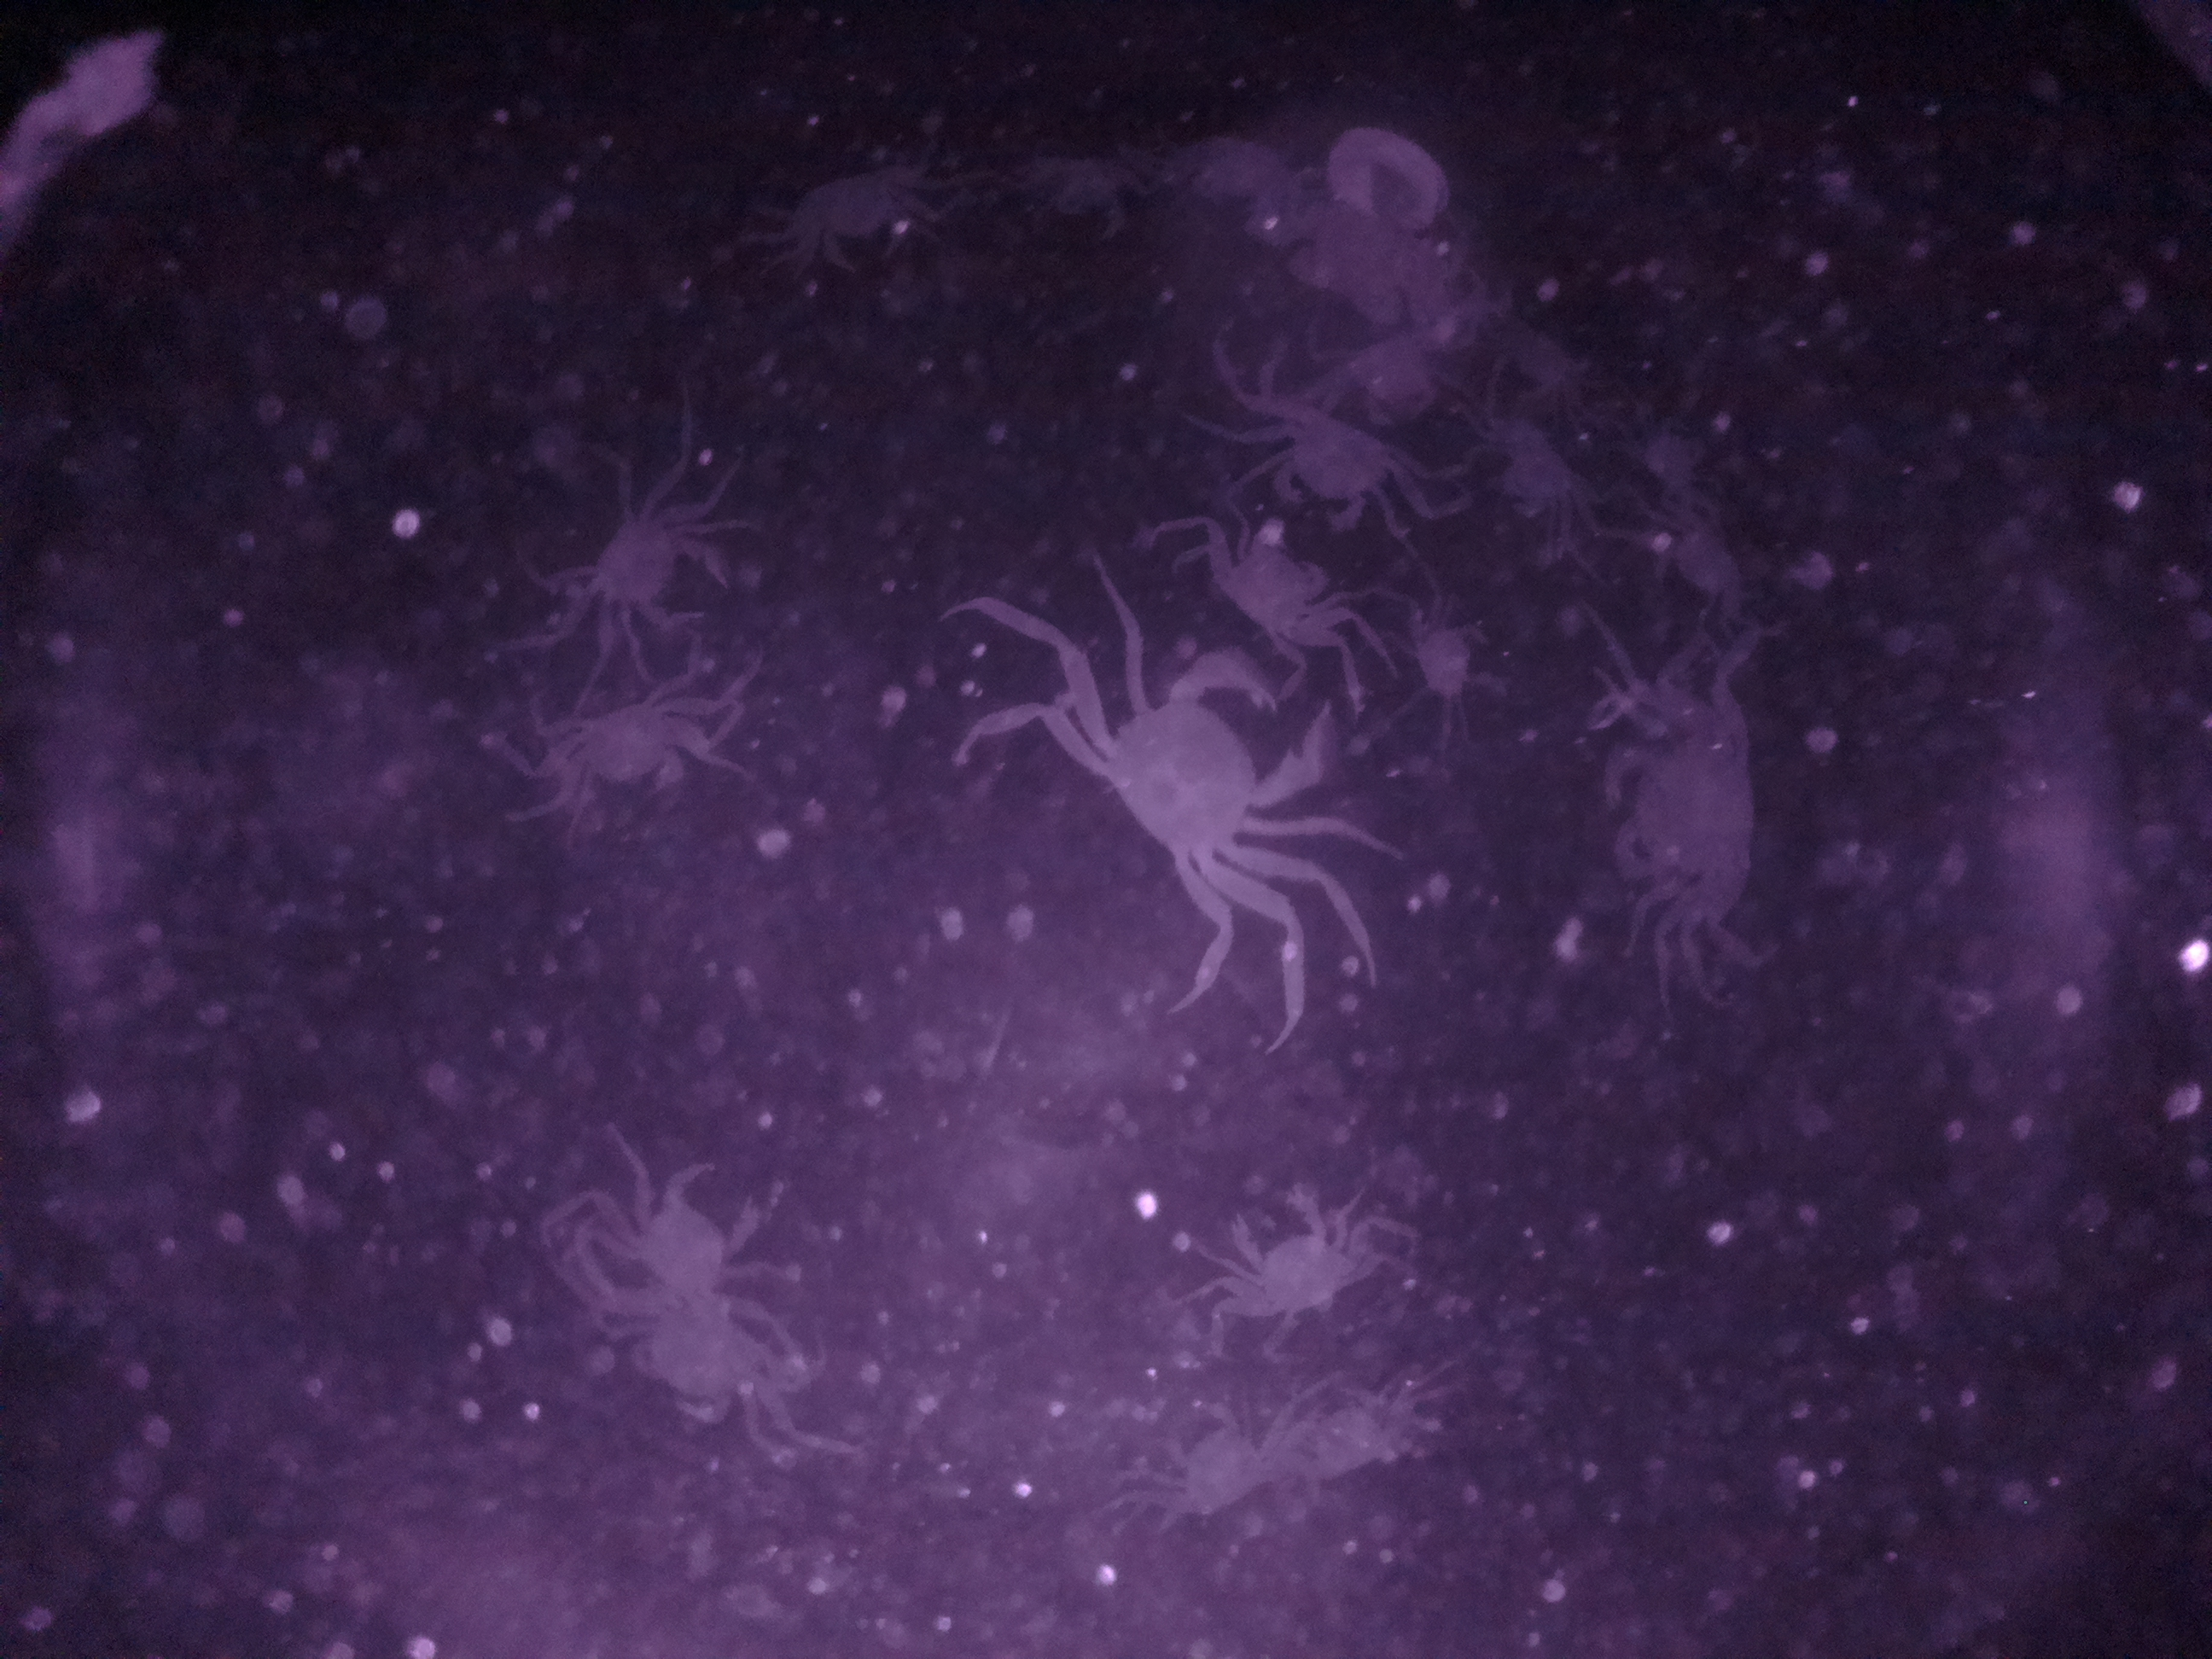Crab: (1061, 664, 1341, 920), (1587, 708, 1775, 931), (1205, 1162, 1381, 1340), (570, 491, 738, 653), (1245, 399, 1433, 533), (1198, 511, 1355, 664), (547, 685, 707, 833)
